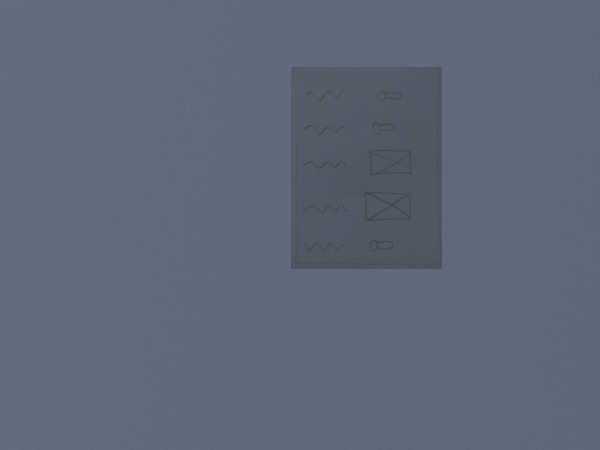image: (363, 190, 413, 222), (367, 146, 415, 178)
switch: (366, 234, 398, 254), (374, 87, 405, 106), (369, 118, 400, 137)
text: (302, 200, 350, 217), (300, 239, 348, 256), (302, 155, 348, 172), (302, 122, 346, 137), (302, 88, 346, 102)
